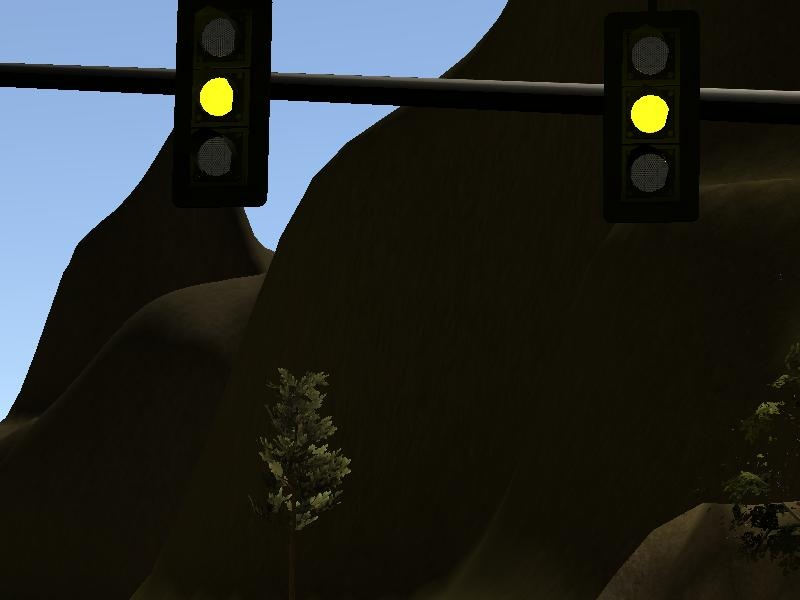yellow: (590, 1, 712, 235), (164, 1, 280, 218)
